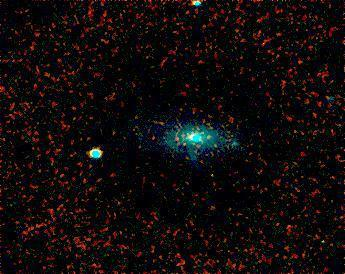star: (197, 119, 227, 149)
